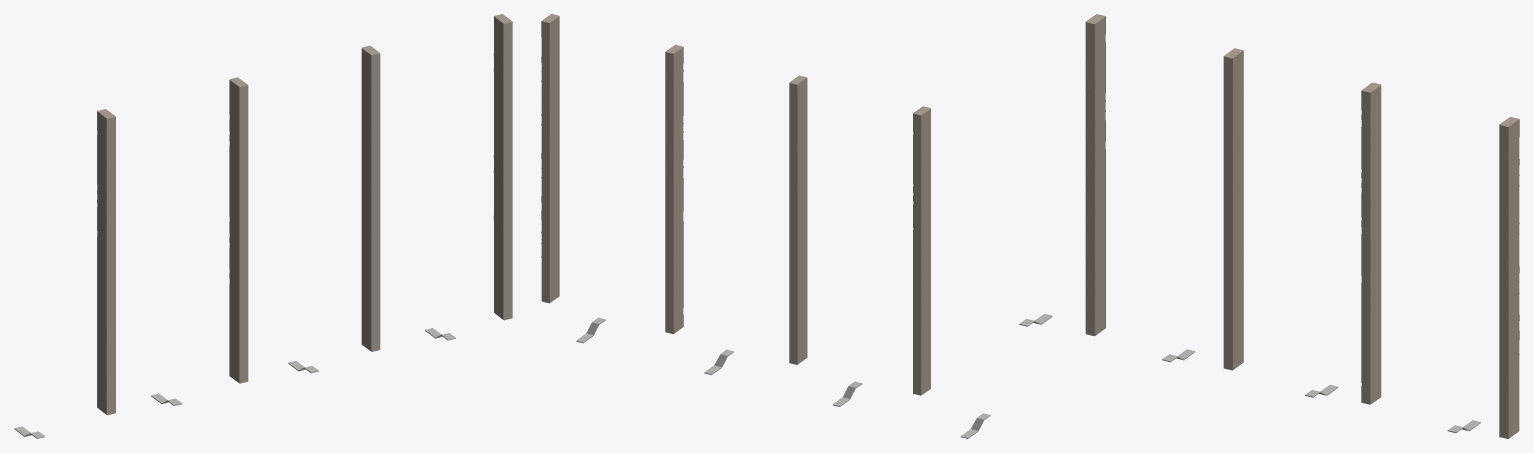
The picture shows the model from 3 angles, left to right: view 1: azimuth 30°, elevation 25°; view 2: azimuth 150°, elevation 25°; view 3: azimuth 330°, elevation 25°; orthographic projection. The views are drawn at different scales.
Bounding box in the file's own units: 1.79 × 1.14 × 0.1908.
